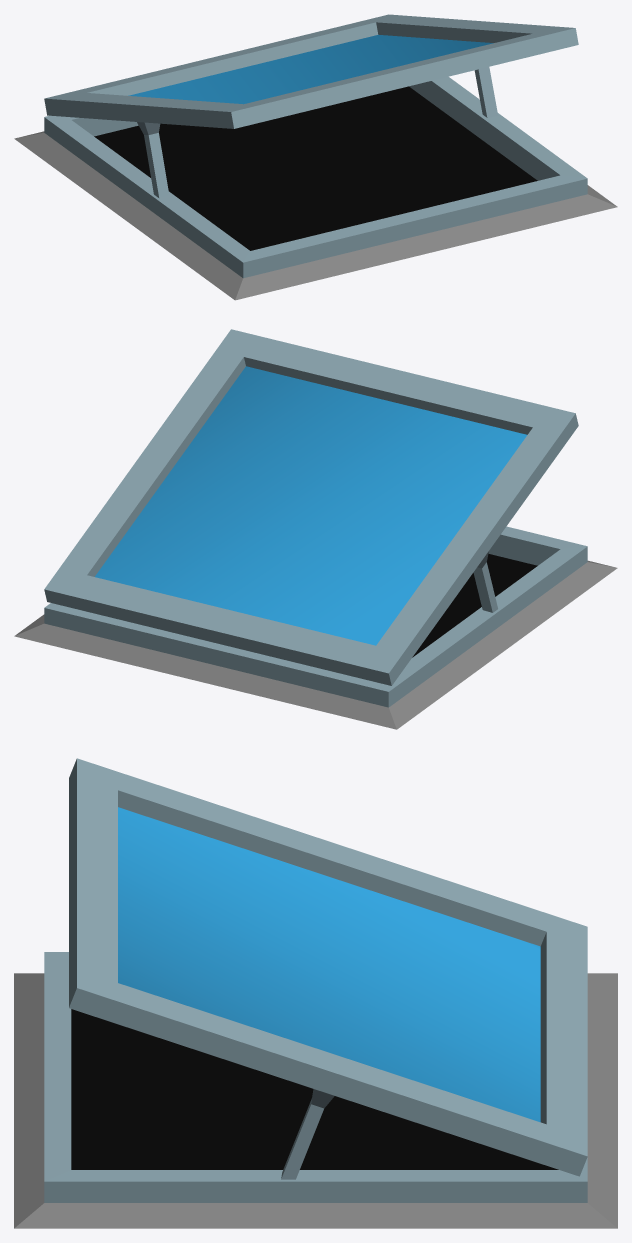
Rendered from RoofAcc_SkylightSmallV2.fbx.
3 views of the same model, one above another, from view 1: azimuth 30°, elevation 25°; view 2: azimuth 150°, elevation 25°; view 3: azimuth 270°, elevation 25° (orthographic). The views are drawn at different scales.
Visible parts, largest first — view 1: RoofAcc_SkylightSmallV2; view 2: RoofAcc_SkylightSmallV2; view 3: RoofAcc_SkylightSmallV2.
Part boxes in pixels (<box>): RoofAcc_SkylightSmallV2: <box>14,14,617,300</box>; RoofAcc_SkylightSmallV2: <box>14,329,617,729</box>; RoofAcc_SkylightSmallV2: <box>14,758,617,1228</box>.
Bounding box in the file's own units: 59.85 × 24.92 × 59.85.
